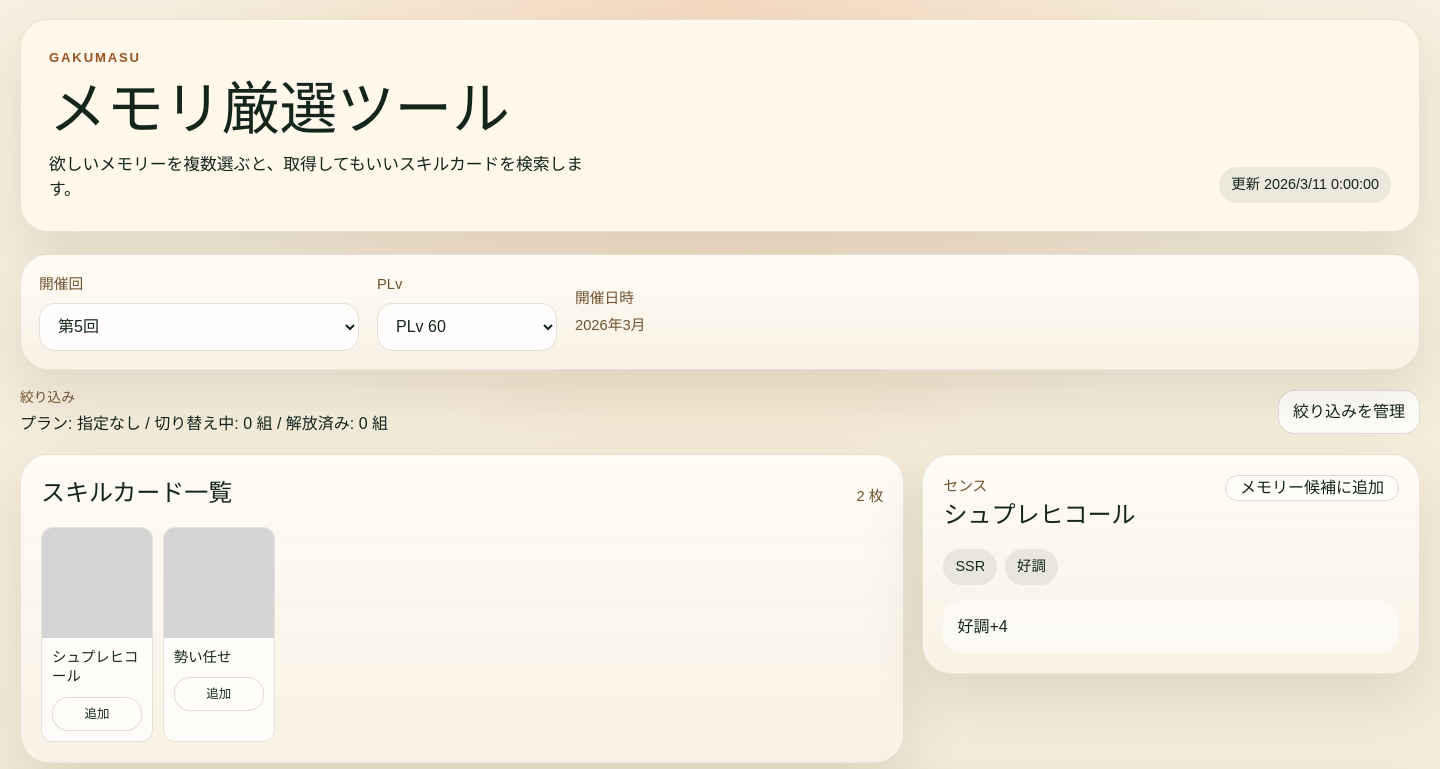
Test: AppShell › renders upgrade and customization markers on candidate images
Click the button with aria-label "シュプレヒコールを候補に追加".
click(97, 635)  # box [41,527,153,742]
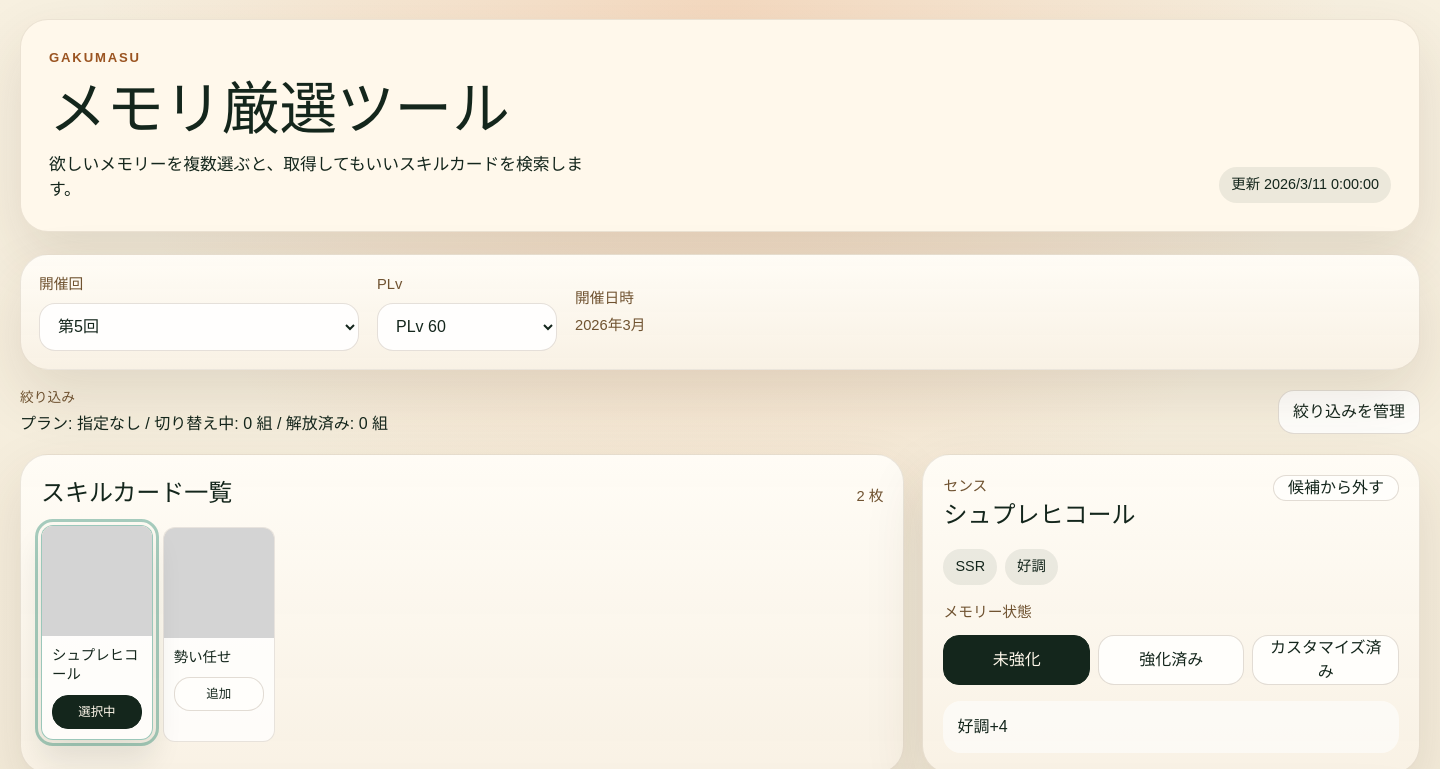
Click the button "強化済み".
click(1171, 660)  # box [1098,635,1244,685]
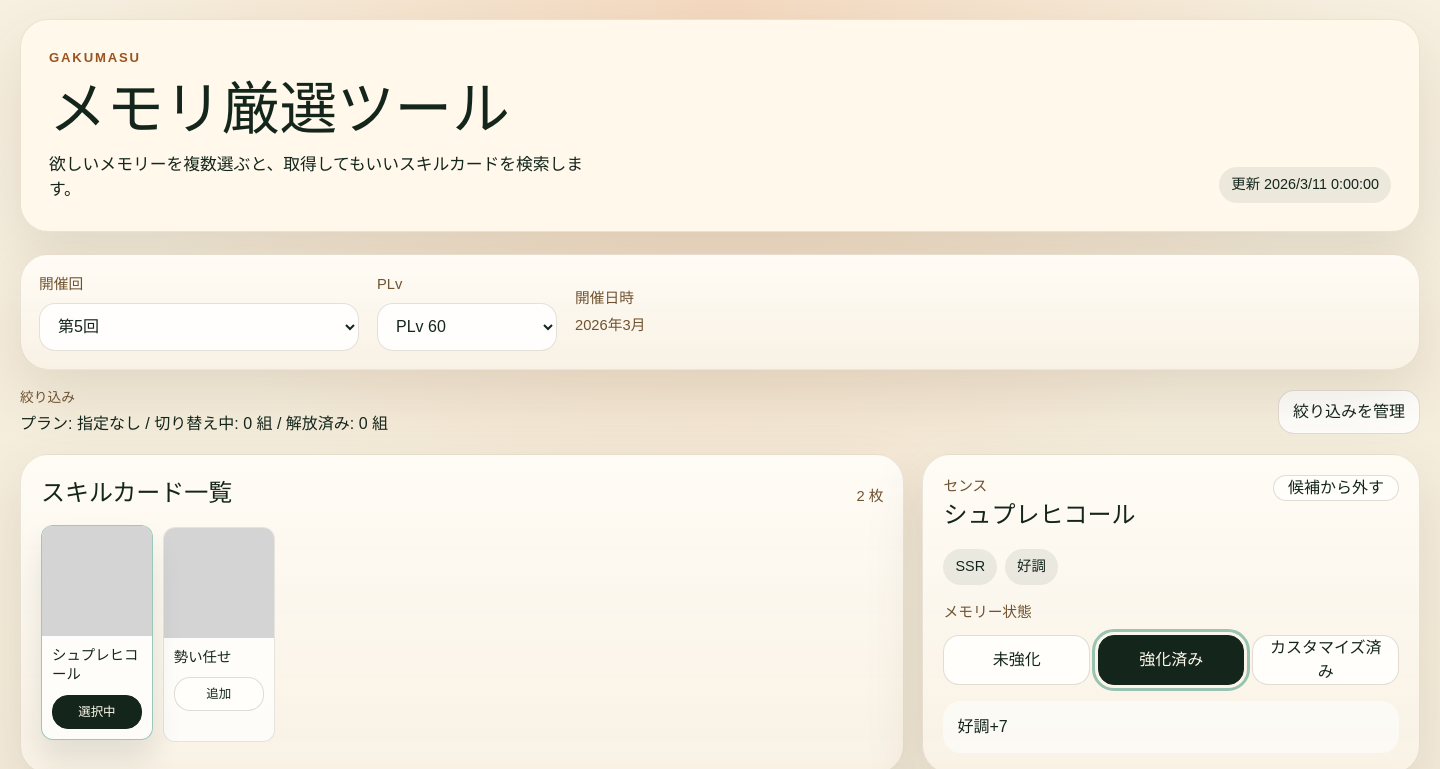
Click the button with aria-label "勢い任せを候補に追加".
click(219, 635)  # box [163,527,275,742]
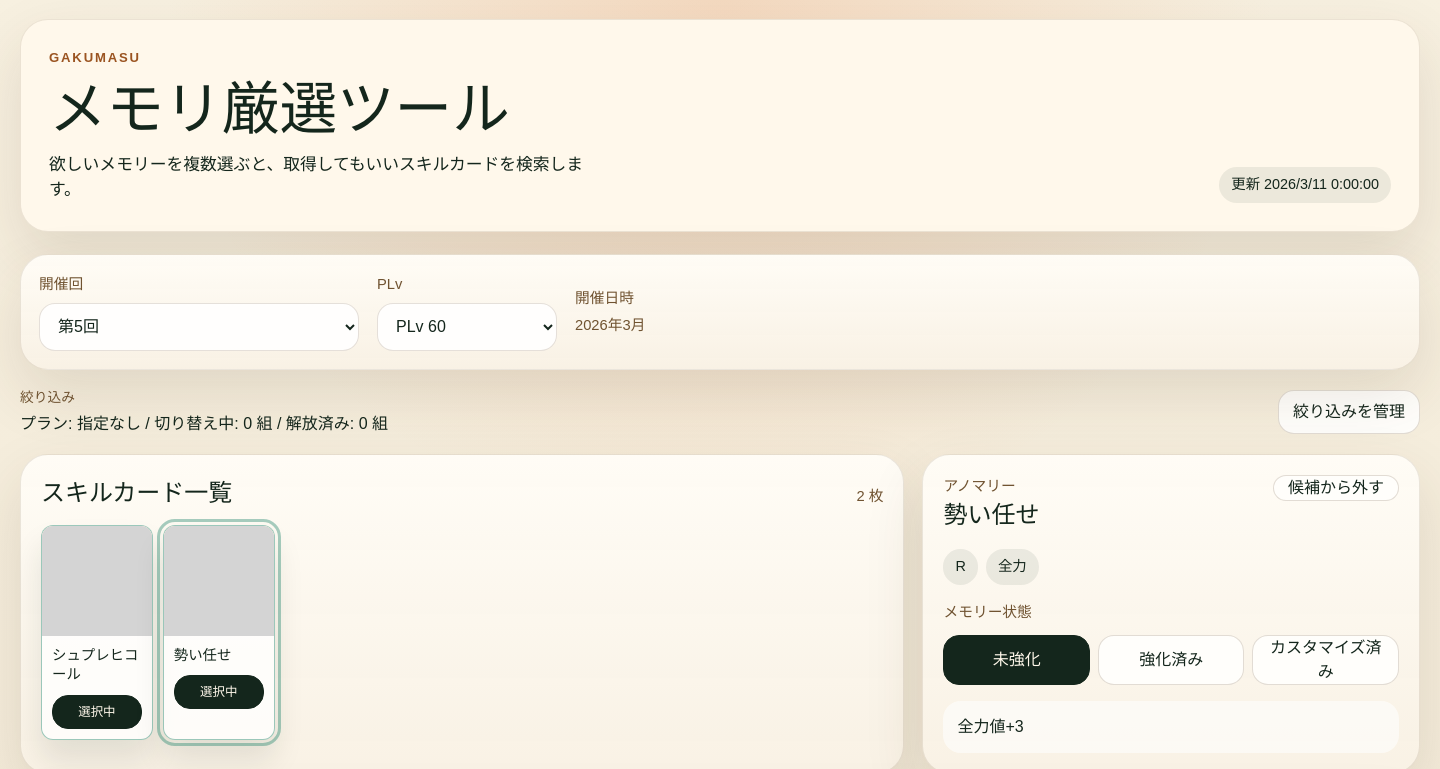
Click the button "カスタマイズ済み".
click(1326, 660)  # box [1252,635,1399,685]
(page scrolled)
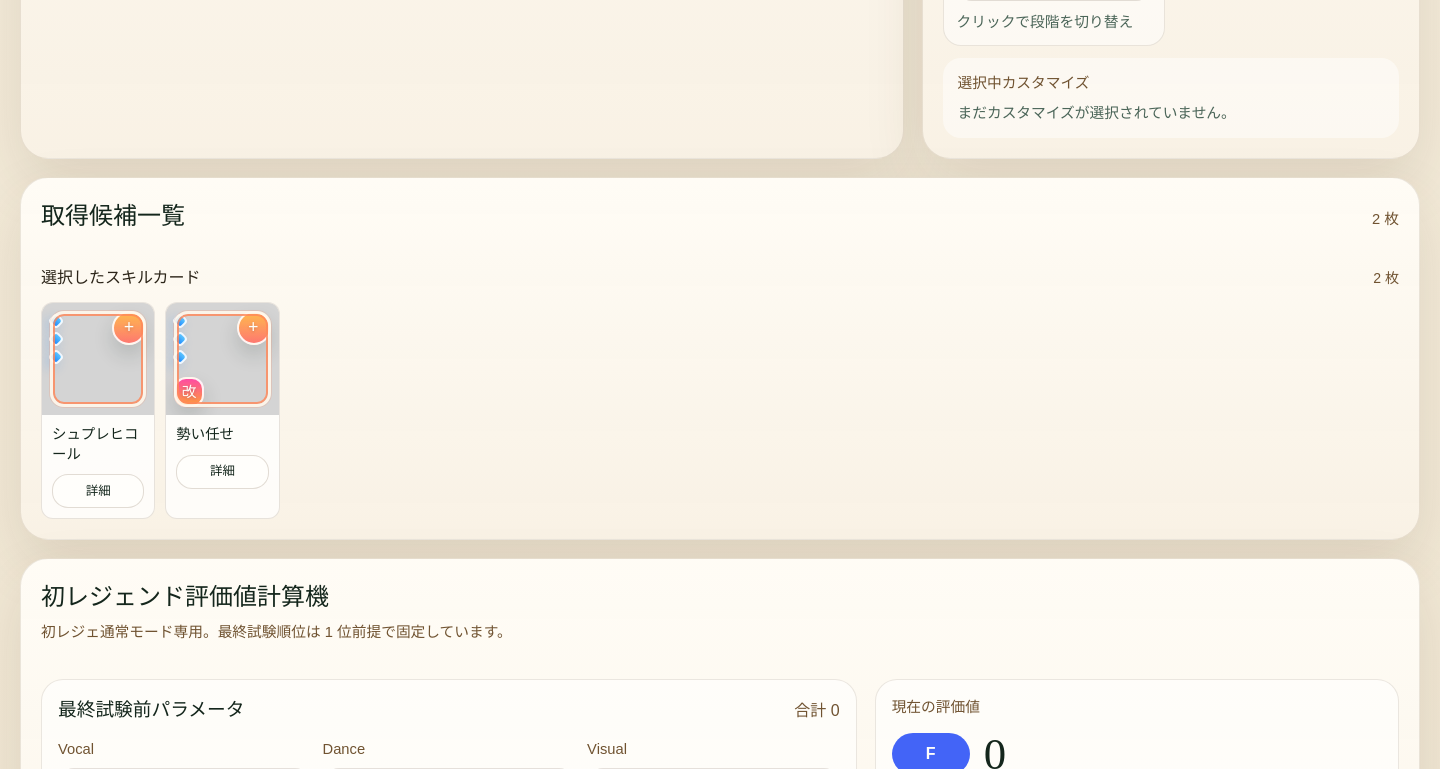
Result: the text "改" is shown at [174,377,204,407]
